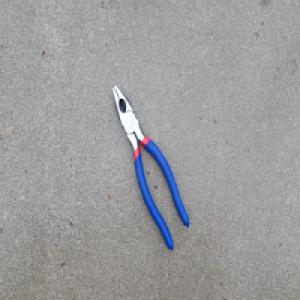Pliers: (111, 83, 190, 252)
